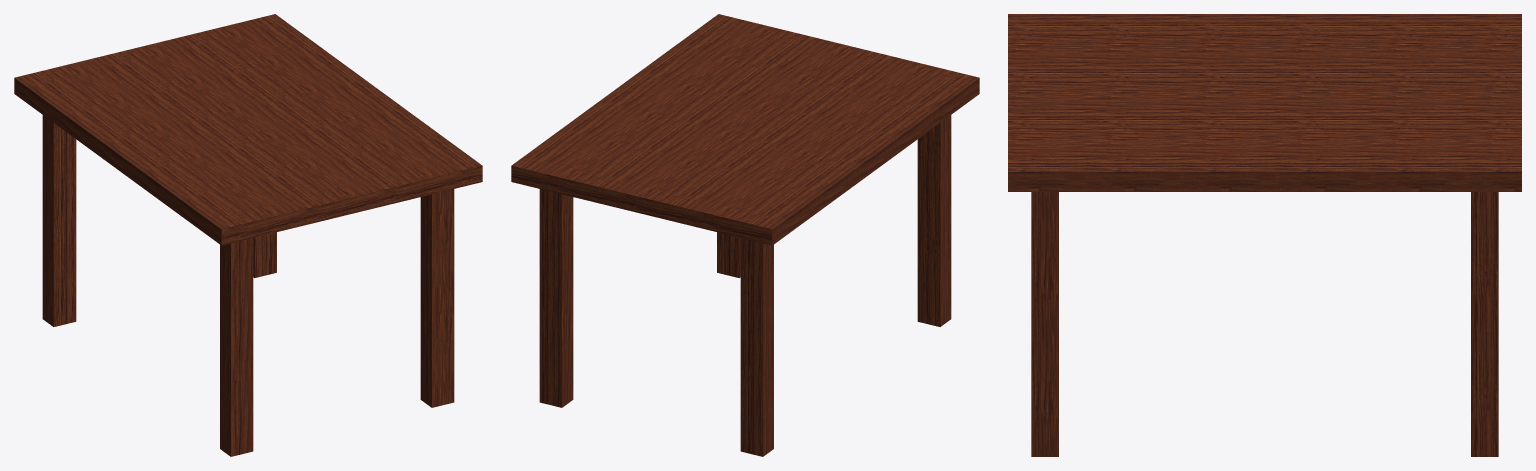
File: table.fbx
3 views of the same model, side by side, from view 1: azimuth 30°, elevation 25°; view 2: azimuth 150°, elevation 25°; view 3: azimuth 270°, elevation 25° (orthographic). The views are drawn at different scales.
Visible parts, largest first — view 1: Cube; view 2: Cube; view 3: Cube.
Boxes of the visible parts, <box> form: Cube: <box>14,14,482,456</box>; Cube: <box>511,14,979,456</box>; Cube: <box>1008,14,1521,456</box>.
Bounding box in the file's own units: 80 × 70 × 110.
